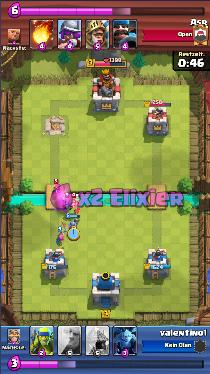ally_archer: (56, 234, 64, 246)
ally_musketeer: (68, 218, 80, 237)
enemy_archer: (54, 185, 60, 193)
enemy_minion: (69, 199, 79, 209)
